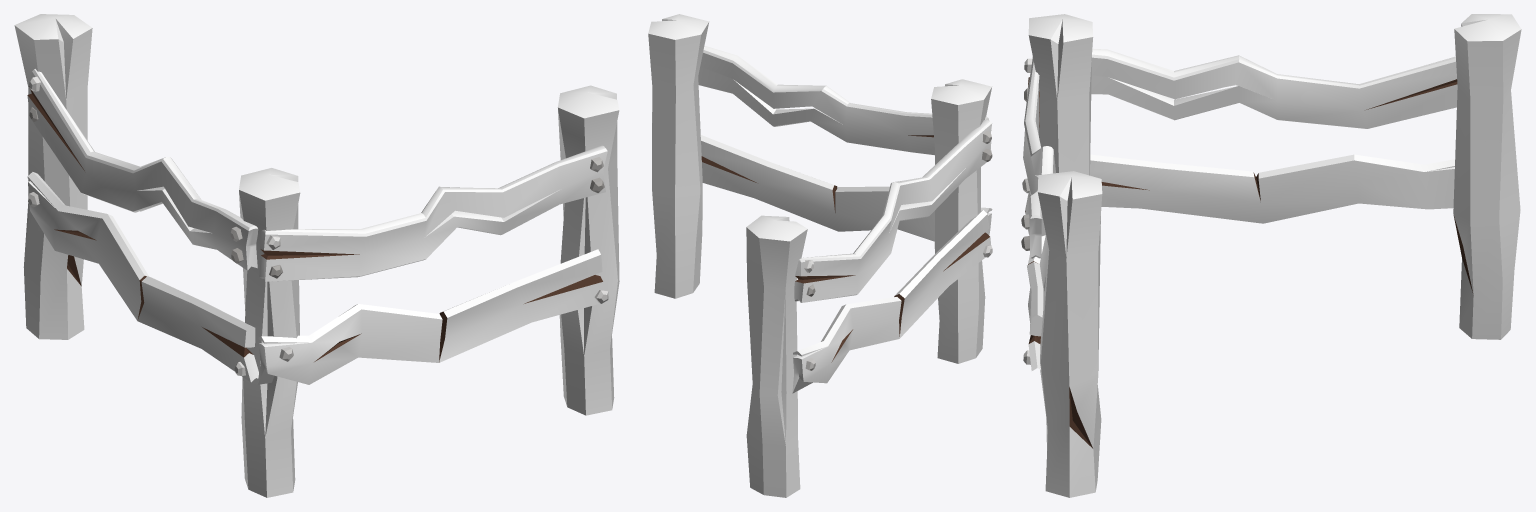
File: valla.fbx
3 views of the same model, side by side, from view 1: azimuth 30°, elevation 25°; view 2: azimuth 150°, elevation 25°; view 3: azimuth 270°, elevation 25° (orthographic). The views are drawn at different scales.
Parts seen in each view (by area): view 1: vallaCurvaCorta1; view 2: vallaCurvaCorta1; view 3: vallaCurvaCorta1.
Part boxes in pixels (left/top/right/bottom): vallaCurvaCorta1: left=14, top=14, right=619, bottom=497; vallaCurvaCorta1: left=648, top=14, right=992, bottom=497; vallaCurvaCorta1: left=1021, top=14, right=1521, bottom=497.
Bounding box in the file's own units: 803 × 611 × 896.
